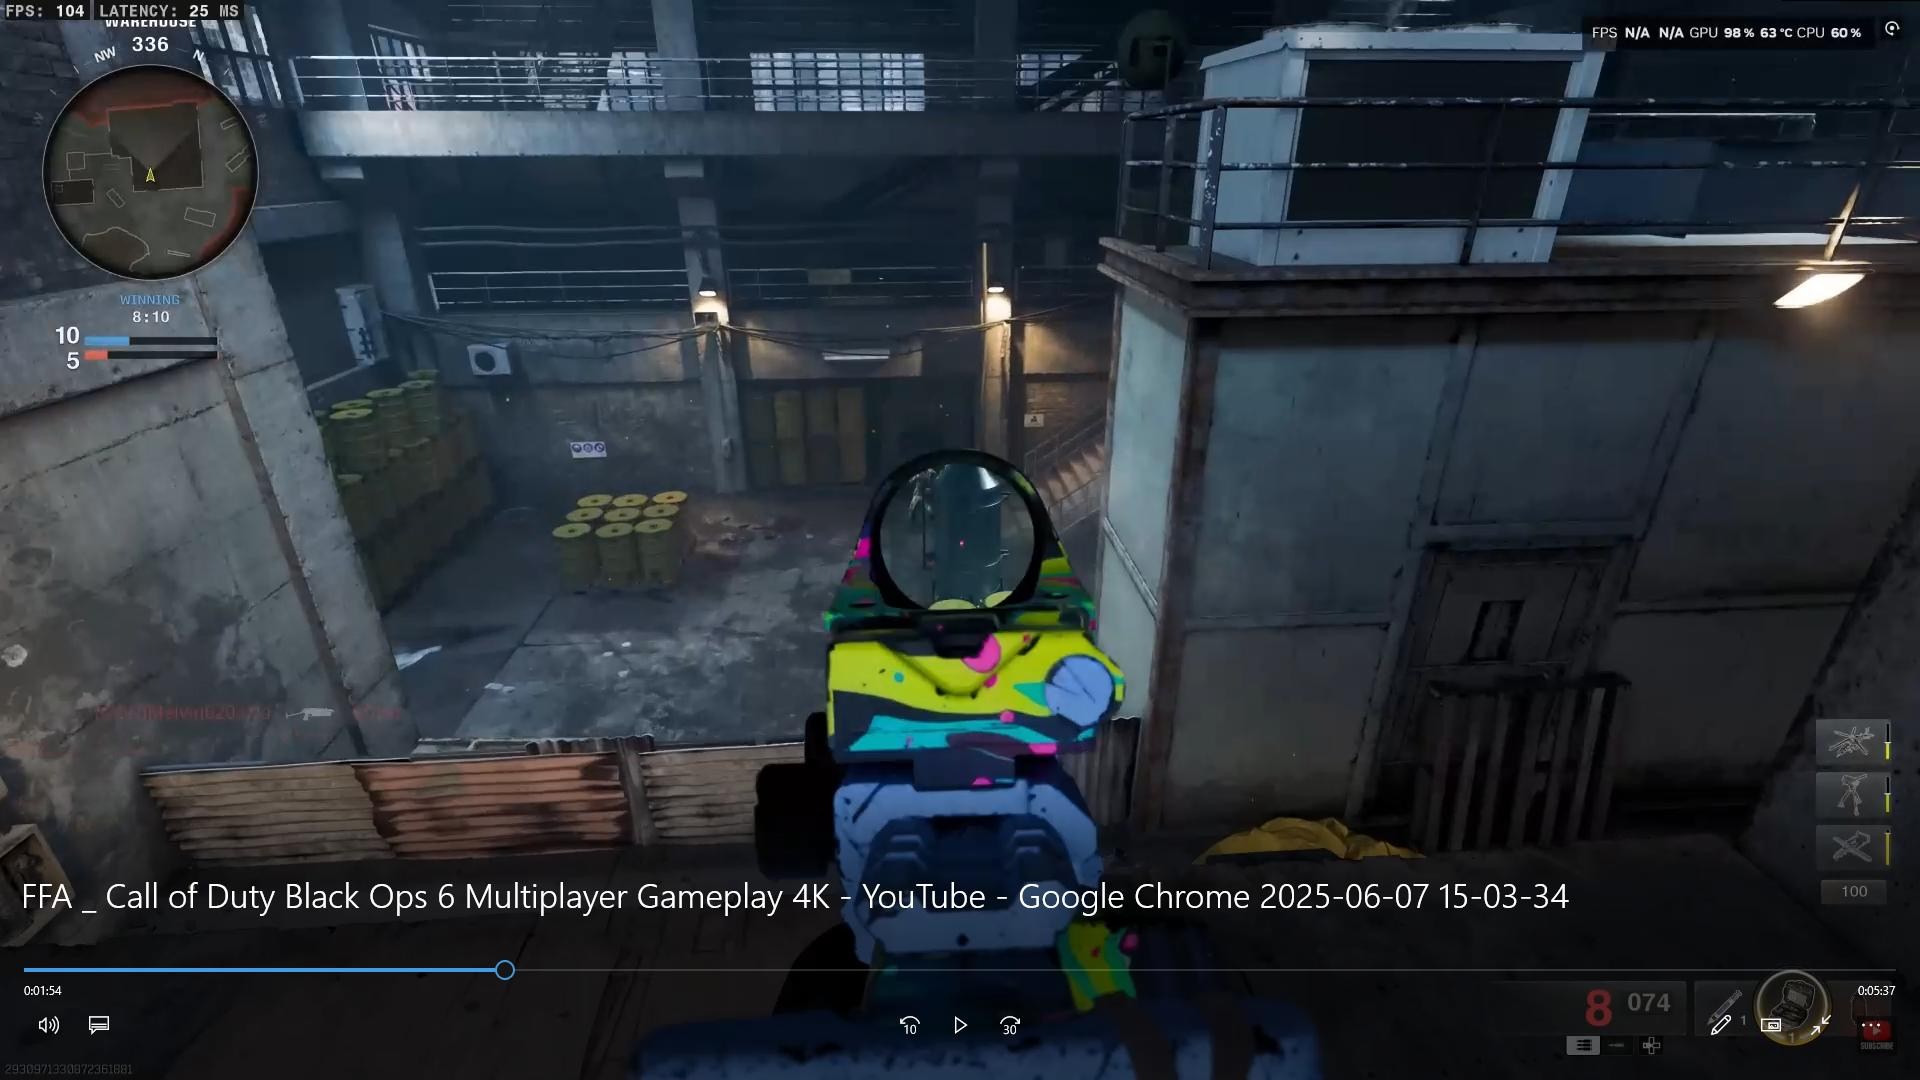Enemy: (903, 464, 939, 530)
